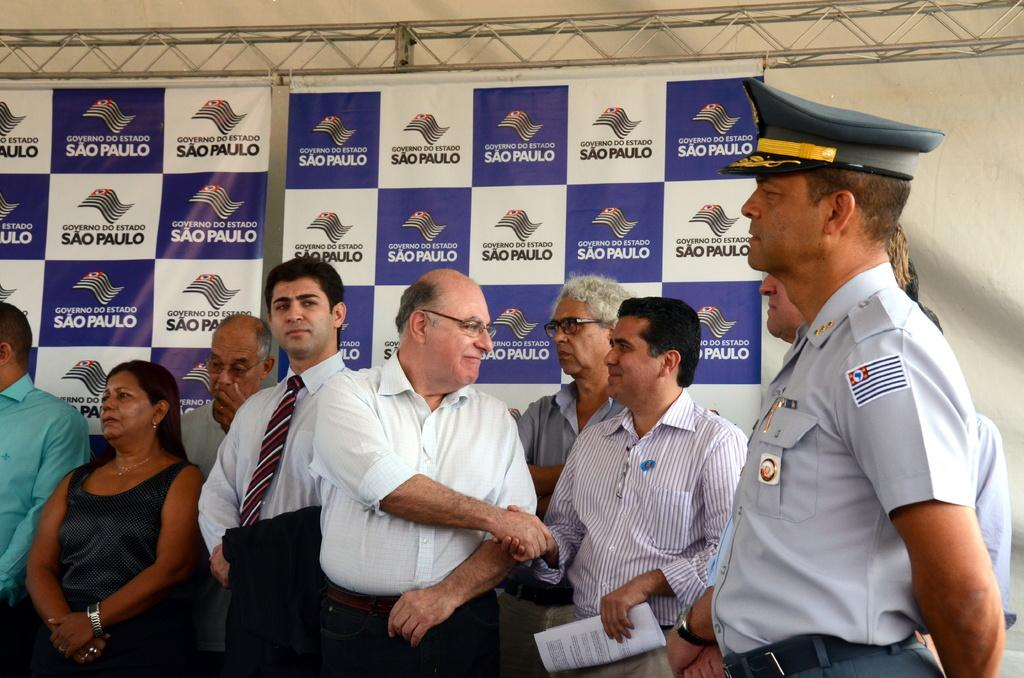Hat: (722, 74, 948, 183)
